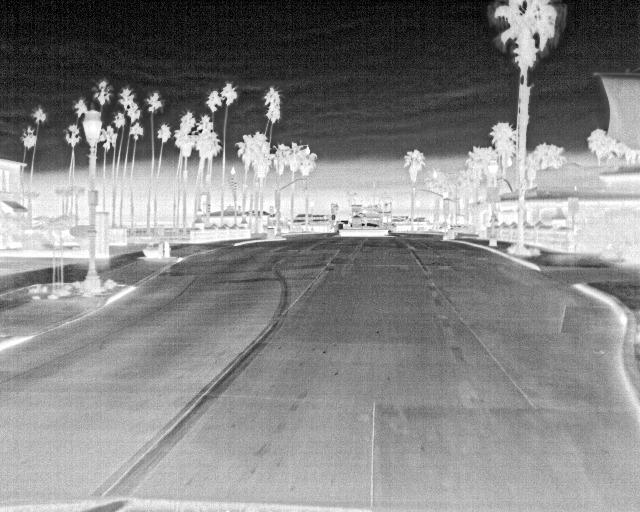light: (443, 200, 449, 215), (303, 175, 308, 190), (275, 199, 280, 210), (230, 178, 234, 188), (207, 204, 211, 213), (270, 206, 274, 215), (412, 187, 416, 196), (234, 182, 237, 190), (238, 206, 241, 214), (276, 213, 280, 218), (444, 222, 448, 227)
sign: (568, 197, 579, 212), (487, 187, 499, 197), (486, 197, 501, 203), (332, 215, 335, 220)
